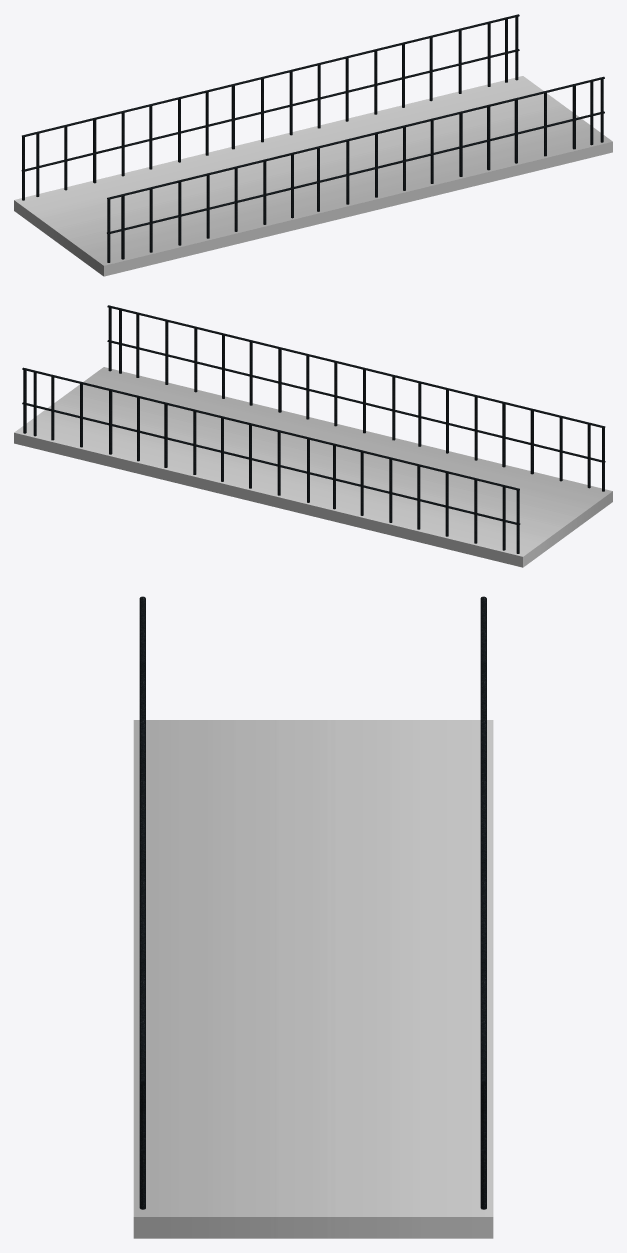
File: Bridge_10_22.fbx
The picture shows the model from 3 angles, top to bottom: view 1: azimuth 30°, elevation 25°; view 2: azimuth 150°, elevation 25°; view 3: azimuth 270°, elevation 25°; orthographic projection. The views are drawn at different scales.
Parts seen in each view (by area): view 1: pPlane5; view 2: pPlane5; view 3: pPlane5, polySurface1071, polySurface1017.
Part boxes in pixels (x1,y1,x2,y2): pPlane5: (14,76,612,276); pPlane5: (14,367,612,567); pPlane5: (133,720,493,1238); polySurface1071: (480,1080,486,1209); polySurface1017: (139,1080,145,1209).
Size of the model in its own units: 0.0207 by 0.00293 by 0.00632.
